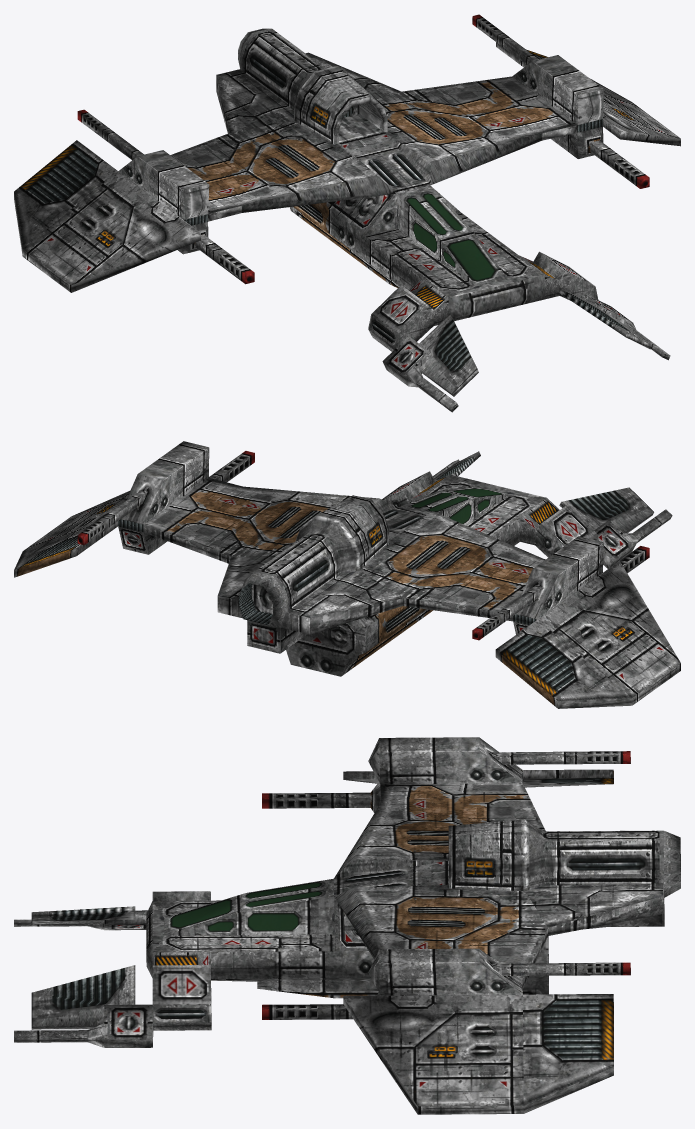
Rendered from saracen.glb.
3 renders of one model, top to bottom at view 1: azimuth 30°, elevation 25°; view 2: azimuth 150°, elevation 25°; view 3: azimuth 270°, elevation 25°, orthographic. The views are drawn at different scales.
Visible parts, largest first — view 1: Saracen, Saracen Cpit; view 2: Saracen, Saracen Cpit; view 3: Saracen, Saracen Cpit.
Boxes of the visible parts, x1=… form: Saracen: x1=14, y1=14, x2=680, y2=412; Saracen Cpit: x1=397, y1=185, x2=507, y2=286; Saracen: x1=14, y1=441, x2=680, y2=708; Saracen Cpit: x1=399, y1=486, x2=509, y2=525; Saracen: x1=14, y1=737, x2=680, y2=1114; Saracen Cpit: x1=164, y1=878, x2=334, y2=935.
Size of the model in its own units: 1273 by 300 by 1106.
1 material, 1 textured.
